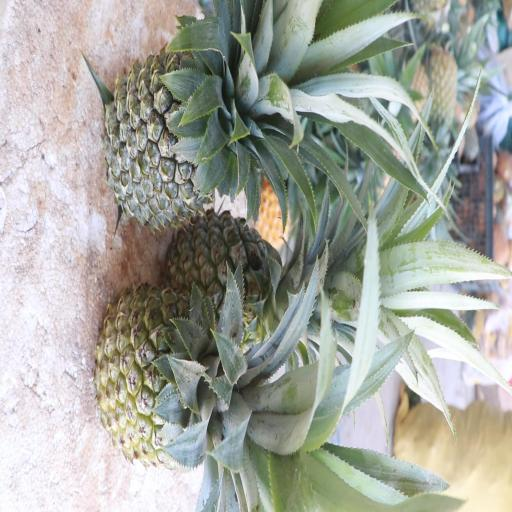------------------------------: (163, 212, 363, 354), (94, 286, 244, 472)
